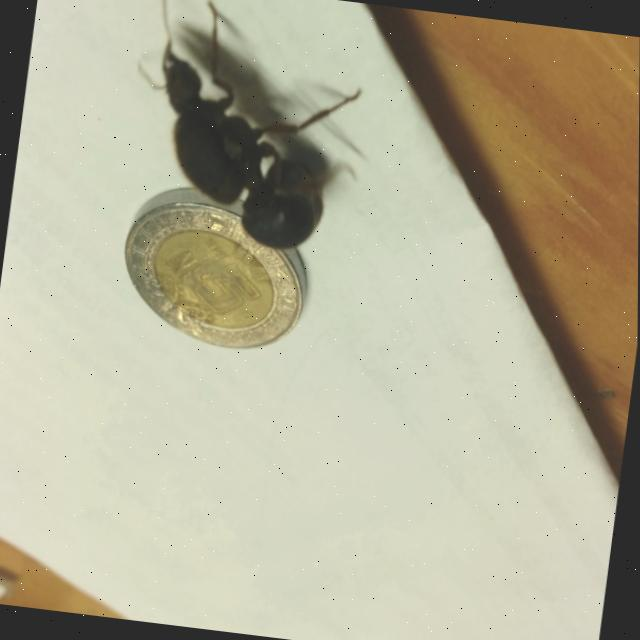Alive-Female-Dealate: (115, 0, 374, 259)
